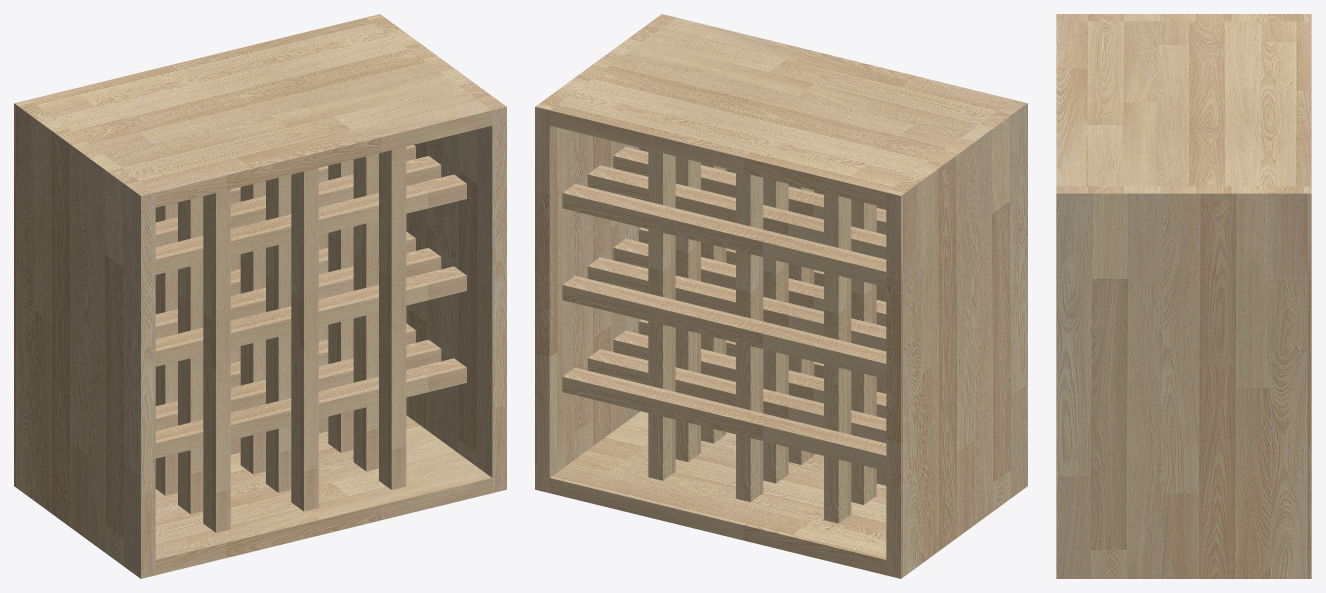
3 views of the same model, side by side, from view 1: azimuth 30°, elevation 25°; view 2: azimuth 150°, elevation 25°; view 3: azimuth 270°, elevation 25° (orthographic).
Visible parts, largest first — view 1: Korpus side.007, Korpus bund_top.004, Korpus side.006, Korpus bund_top.005, Lamel.124, Lamel.125, Lamel.123, Lamel.122, Lamel.121, Lamel.120, Lamel.126, Lamel.128 (+9 smaller); view 2: Korpus side.007, Korpus bund_top.004, Korpus side.006, Korpus bund_top.005, Lamel.141, Lamel.143, Lamel.142, Lamel.136, Lamel.137, Lamel.135, Lamel.130, Lamel.129 (+9 smaller); view 3: Korpus side.006, Korpus bund_top.004, Korpus side.007.
Part boxes in pixels (x1,y1,x2,y2): Korpus side.007: [14, 99, 155, 578]; Korpus bund_top.004: [29, 17, 492, 207]; Korpus side.006: [365, 14, 506, 492]; Korpus bund_top.005: [155, 415, 492, 575]; Lamel.124: [379, 146, 406, 489]; Lamel.125: [291, 168, 318, 511]; Lamel.123: [203, 189, 230, 532]; Lamel.122: [155, 174, 466, 274]; Lamel.121: [155, 266, 466, 366]; Lamel.120: [155, 358, 466, 458]; Lamel.126: [178, 196, 203, 514]; Lamel.128: [266, 175, 291, 492]; Korpus side.007: [886, 99, 1027, 578]; Korpus bund_top.004: [549, 17, 1012, 207]; Korpus side.006: [535, 14, 676, 492]; Korpus bund_top.005: [549, 411, 886, 575]; Lamel.141: [562, 367, 886, 470]; Lamel.143: [562, 183, 886, 286]; Lamel.142: [562, 275, 886, 378]; Lamel.136: [648, 150, 675, 480]; Lamel.137: [736, 171, 763, 502]; Lamel.135: [824, 192, 851, 523]; Lamel.130: [587, 257, 886, 351]; Lamel.129: [587, 349, 886, 443]; Korpus side.006: [1056, 186, 1311, 578]; Korpus bund_top.004: [1056, 21, 1311, 186]; Korpus side.007: [1056, 14, 1311, 21].
Bounding box in the file's own units: 0.5 × 0.5 × 0.3.
1 material, 1 textured.
